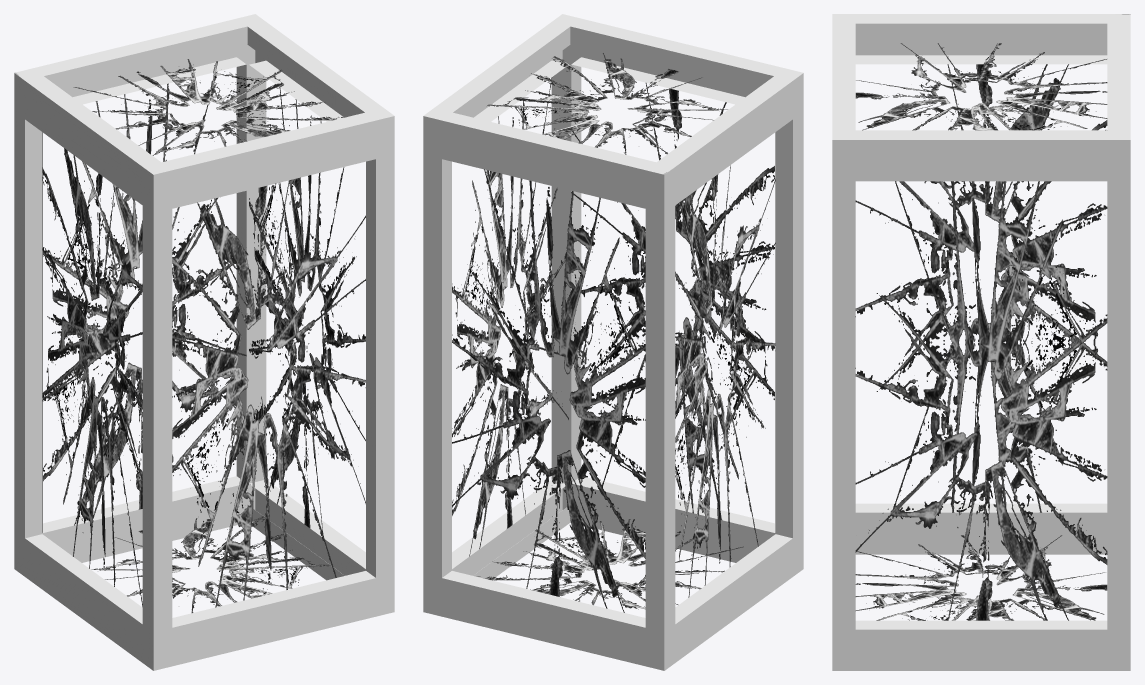
Rendered from INDICADOR_1.fbx.
3 renders of one model, left to right at view 1: azimuth 30°, elevation 25°; view 2: azimuth 150°, elevation 25°; view 3: azimuth 270°, elevation 25°, orthographic. The views are drawn at different scales.
Parts seen in each view (by area): view 1: pCube1; view 2: pCube1; view 3: pCube1.
Boxes of the visible parts, <box> form: pCube1: <box>14,14,394,670</box>; pCube1: <box>423,14,803,670</box>; pCube1: <box>832,14,1130,670</box>.
Bounding box in the file's own units: 2.77 × 5.45 × 2.77.
2 materials, 2 textured.
